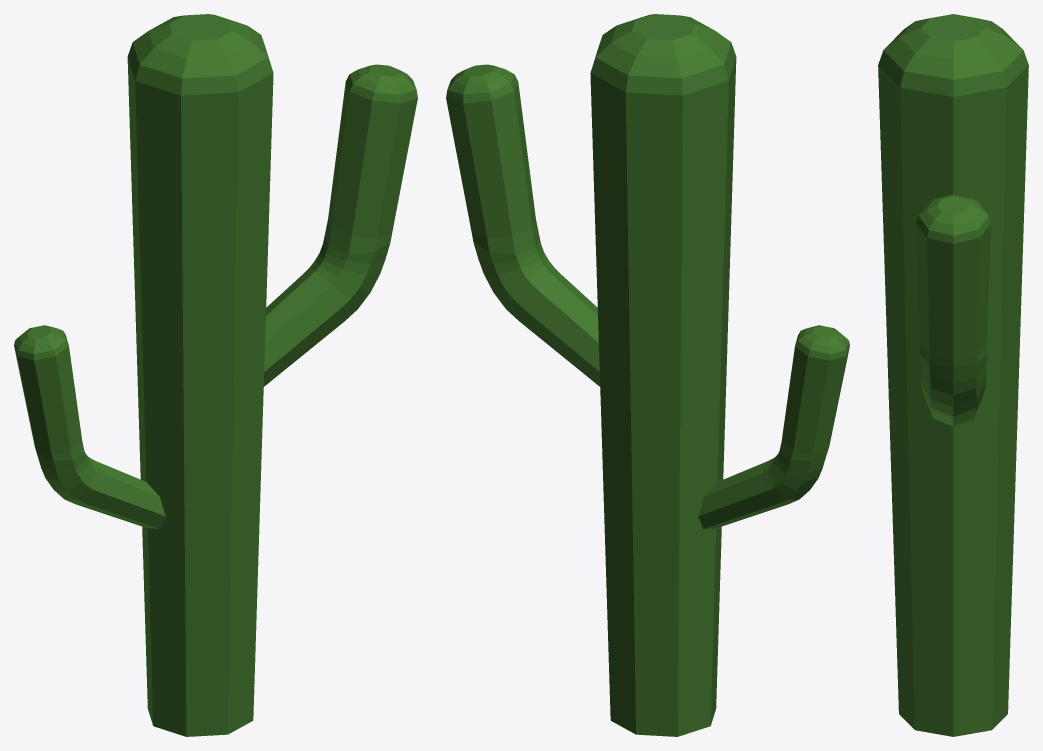
The model's file is Cactus.fbx.
The picture shows the model from 3 angles, left to right: view 1: azimuth 30°, elevation 25°; view 2: azimuth 150°, elevation 25°; view 3: azimuth 270°, elevation 25°; orthographic projection.
Visible parts, largest first — view 1: Cylinder, Cylinder.001, Cylinder.002; view 2: Cylinder, Cylinder.001, Cylinder.002; view 3: Cylinder, Cylinder.001.
Boxes of the visible parts, box(x1,y1,x2,y2) form: Cylinder: box(127, 14, 273, 736); Cylinder.001: box(263, 64, 417, 386); Cylinder.002: box(14, 325, 165, 529); Cylinder: box(590, 14, 736, 736); Cylinder.001: box(446, 64, 600, 386); Cylinder.002: box(698, 325, 849, 529); Cylinder: box(878, 14, 1028, 736); Cylinder.001: box(915, 194, 991, 426).
Size of the model in its own units: 607 by 1004 by 200.
